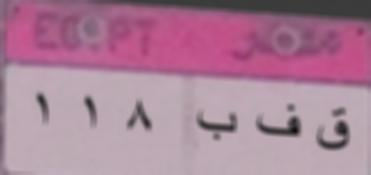1: (29, 90, 55, 128), (78, 94, 100, 132)
8: (125, 98, 154, 137)
baa: (194, 105, 241, 145)
faa: (257, 99, 301, 145)
qaaf: (314, 106, 352, 157)
